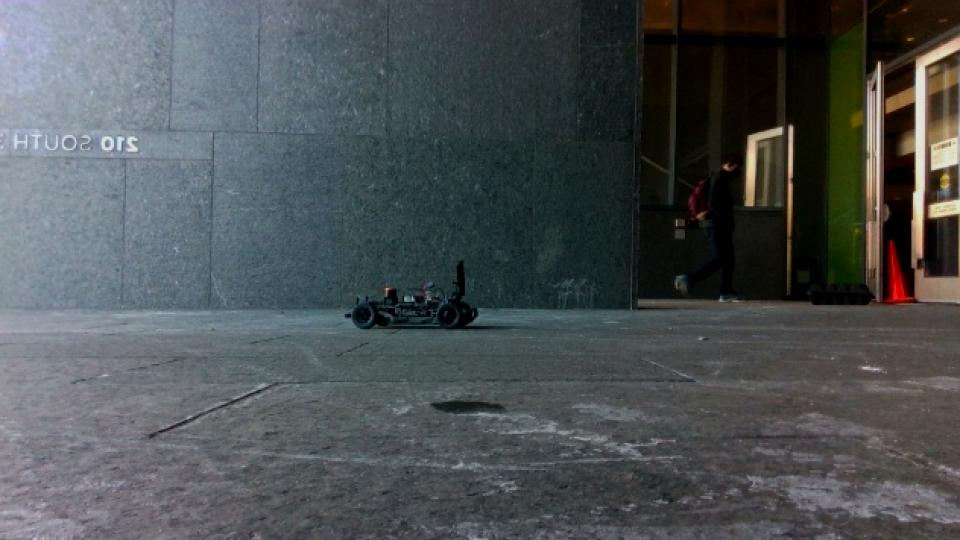car: (343, 258, 483, 332)
